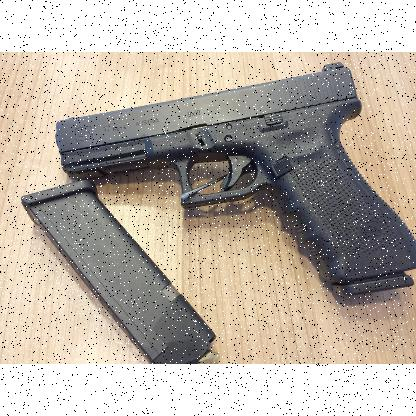gun: (55, 60, 415, 294)
